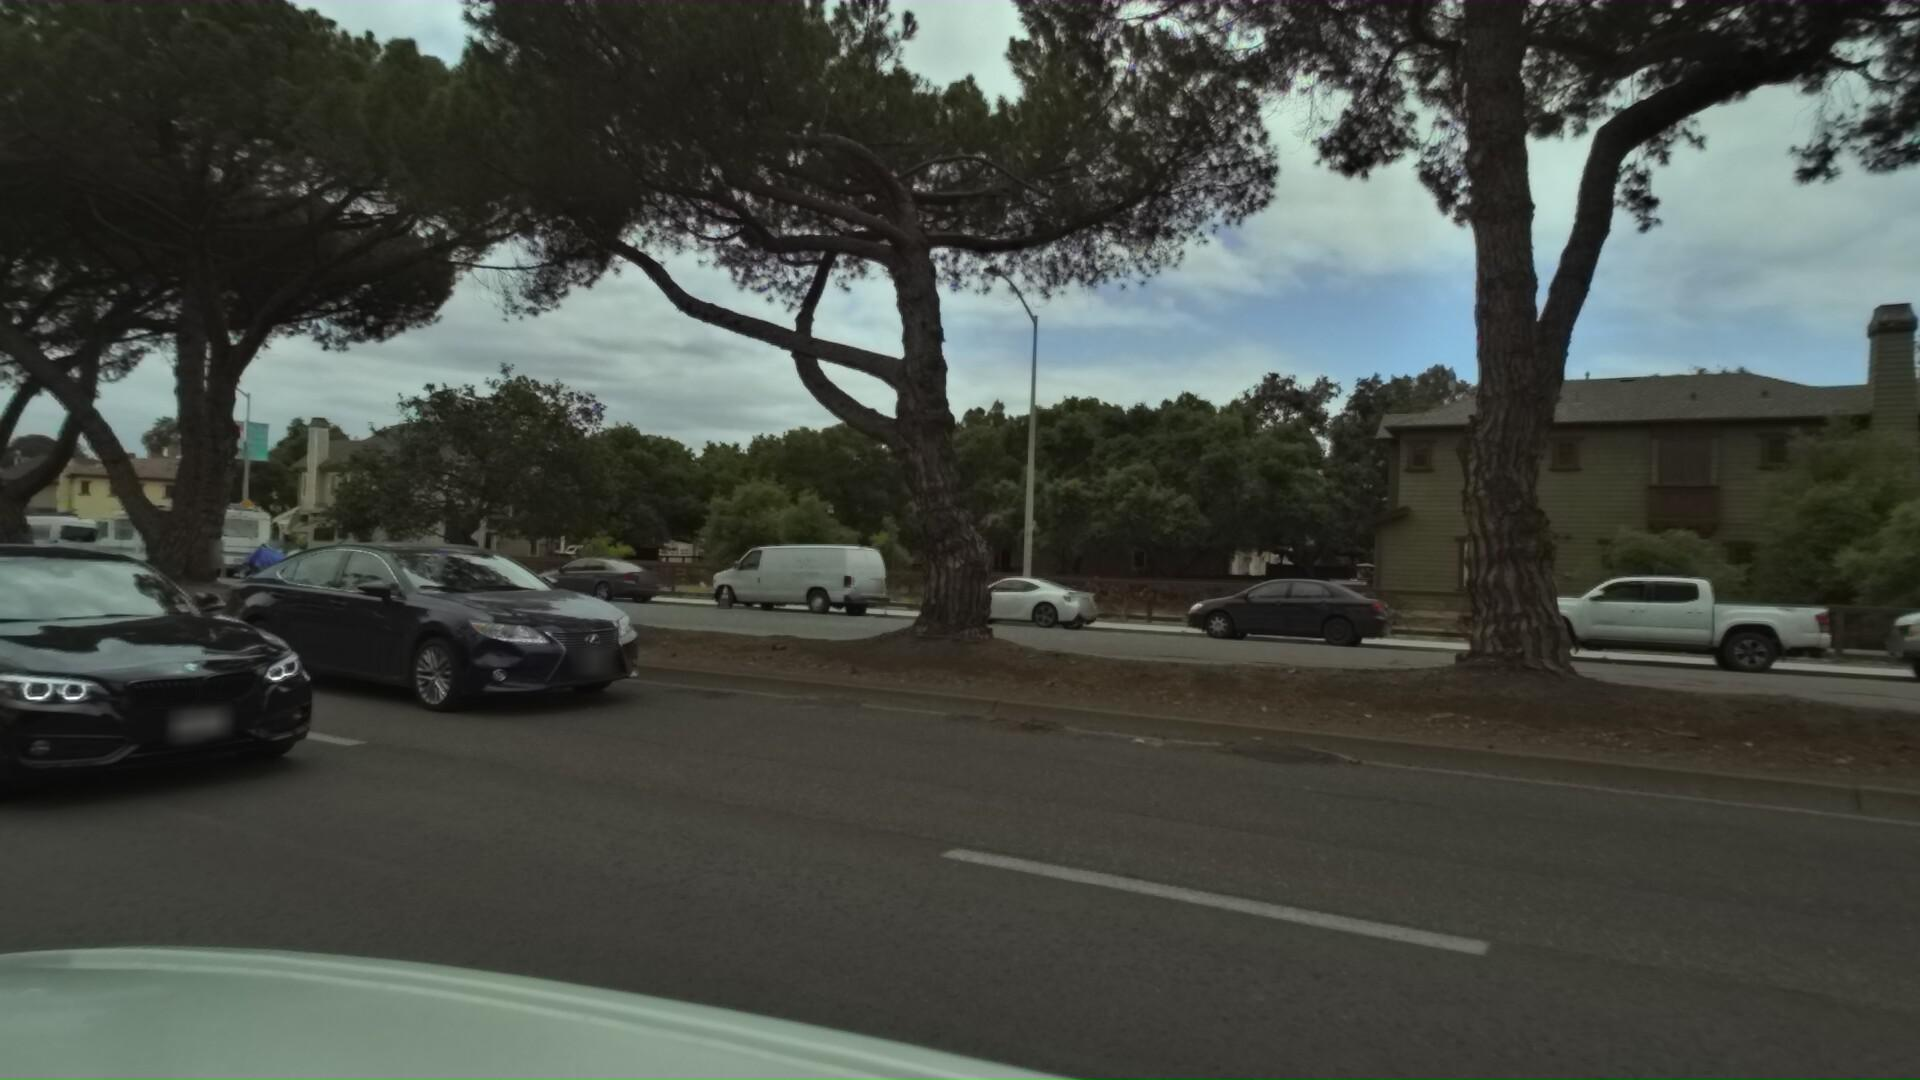car: (0, 492, 385, 829), (193, 488, 684, 727), (1445, 559, 1799, 686), (1139, 564, 1371, 653), (679, 530, 884, 617), (1820, 549, 1920, 712), (899, 564, 1087, 632), (505, 546, 657, 607), (0, 505, 109, 568)
other_vehicle: (264, 495, 505, 591), (82, 493, 277, 578), (206, 531, 297, 580), (0, 502, 40, 563)
